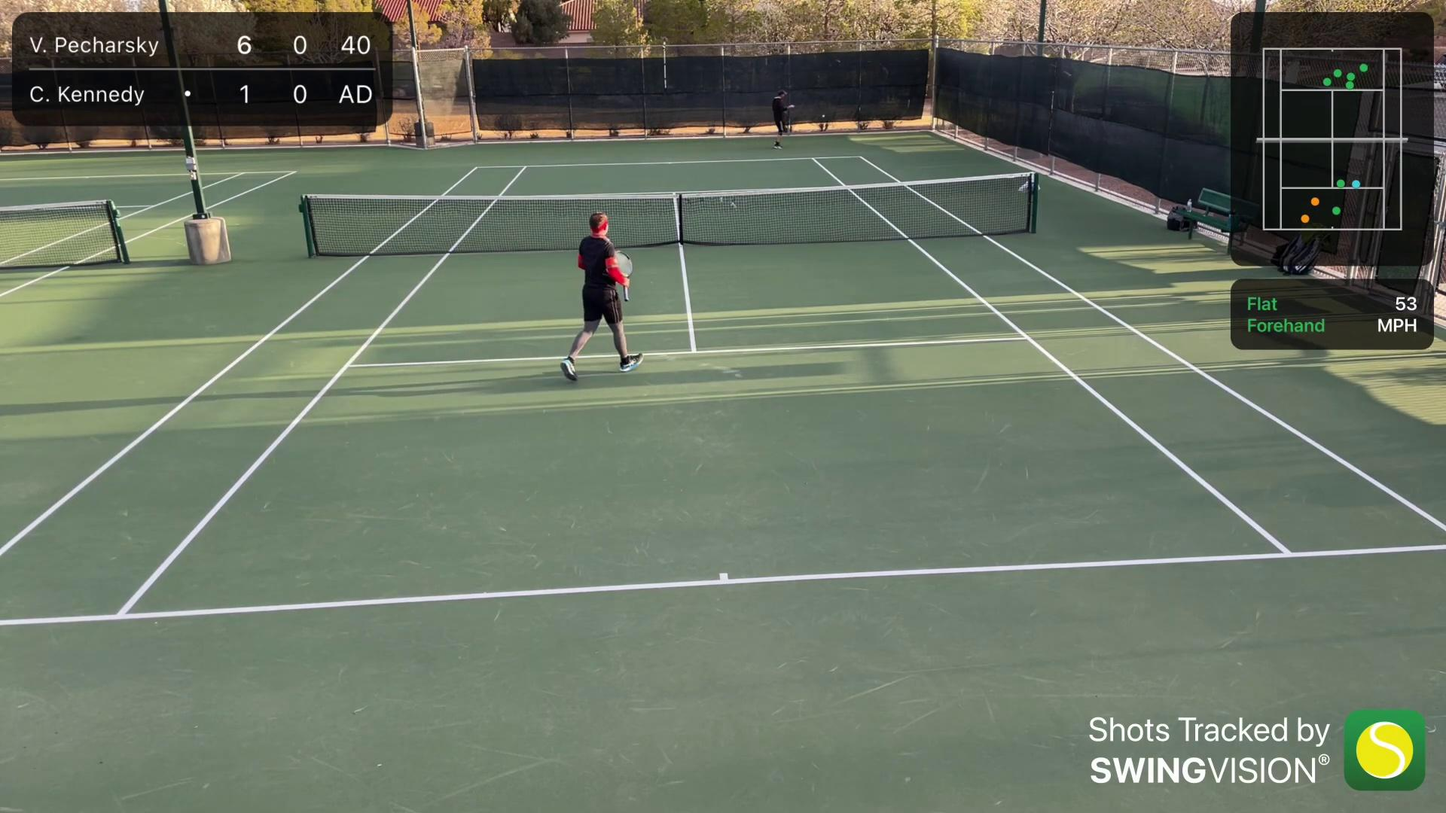ball: (821, 113, 826, 118)
